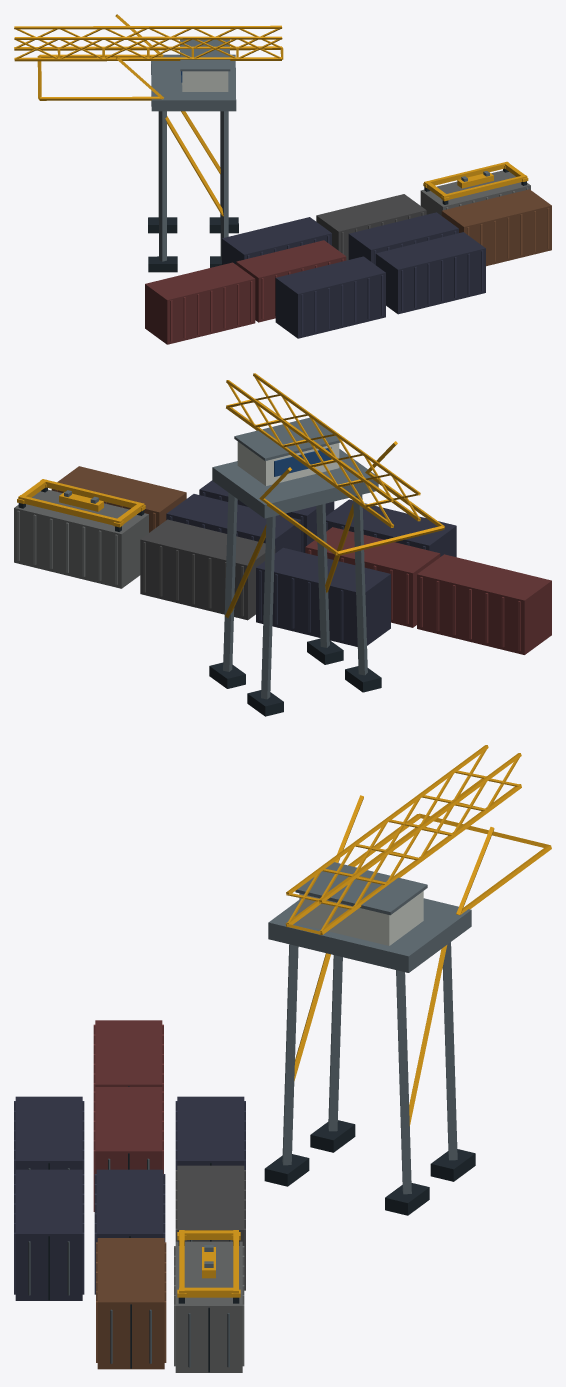
Rendered from gantry-crane-e-w-11.glb.
The picture shows the model from 3 angles, top to bottom: view 1: azimuth 30°, elevation 25°; view 2: azimuth 150°, elevation 25°; view 3: azimuth 270°, elevation 25°; orthographic projection. The views are drawn at different scales.
Parts seen in each view (by area): view 1: gantry-crane-e-w-11; view 2: gantry-crane-e-w-11; view 3: gantry-crane-e-w-11.
Boxes of the visible parts, bbox=[...] form: gantry-crane-e-w-11: bbox=[14, 14, 551, 344]; gantry-crane-e-w-11: bbox=[14, 373, 551, 716]; gantry-crane-e-w-11: bbox=[14, 745, 551, 1372].
Bounding box in the file's own units: 62.2 × 31.18 × 46.61.
